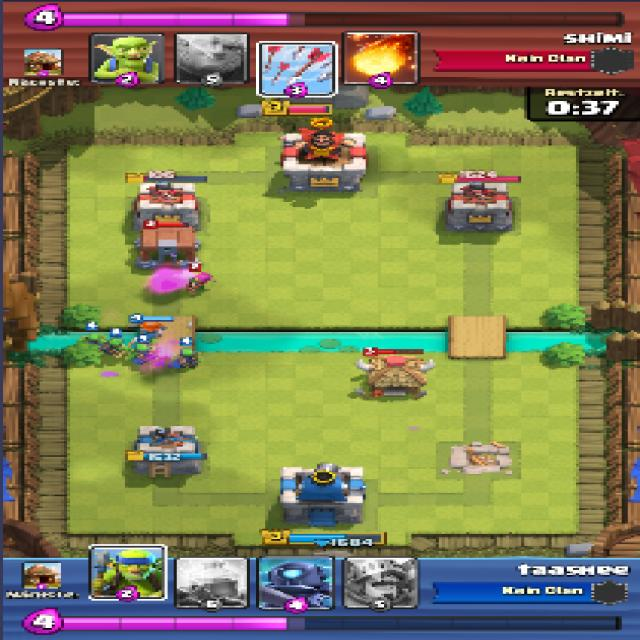Enemy-Archer: (185, 272, 216, 292)
Enemy-GoblinHut: (349, 354, 439, 402)
Player-GoblinCage: (131, 225, 202, 271)
Player-SpearGoblin: (128, 341, 159, 363), (171, 348, 203, 369), (103, 336, 134, 356), (83, 332, 105, 354)
Player-Valkyrie: (132, 319, 166, 342)
